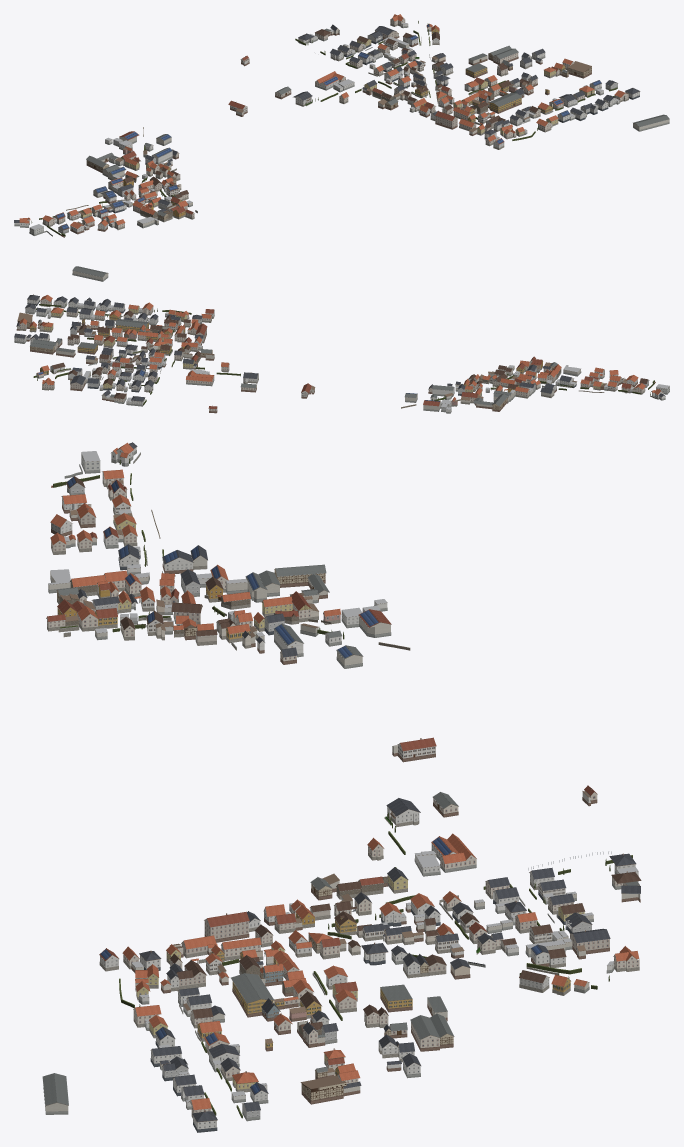
The model's file is village_north.glb.
The picture shows the model from 3 angles, top to bottom: view 1: azimuth 30°, elevation 25°; view 2: azimuth 150°, elevation 25°; view 3: azimuth 270°, elevation 25°; orthographic projection. The views are drawn at different scales.
Parts seen in each view (by area): view 1: village_north; view 2: village_north; view 3: village_north.
Boxes of the visible parts, <box> form: village_north: <box>14,14,669,237</box>; village_north: <box>14,266,669,413</box>; village_north: <box>42,442,641,1132</box>.
Size of the model in its own units: 912 by 64.64 by 382.
43 materials, 39 textured.
